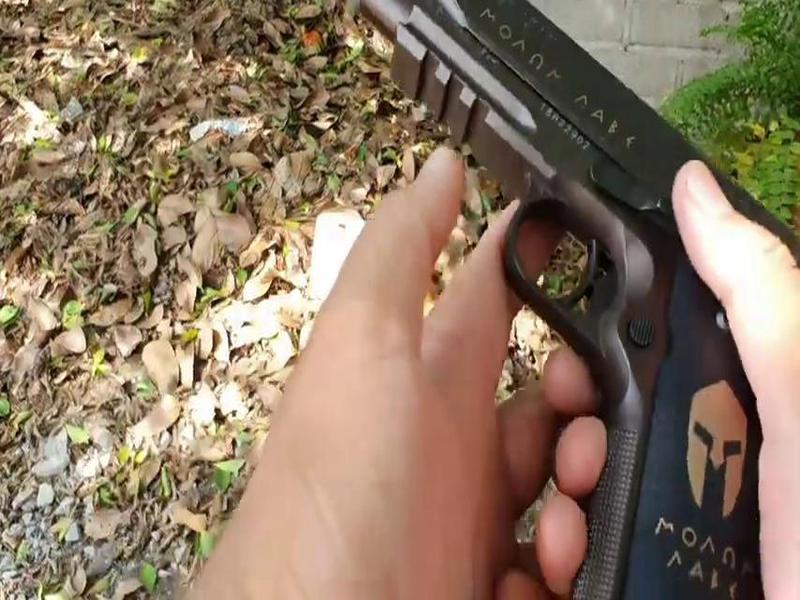Pistola: (353, 3, 793, 600)
